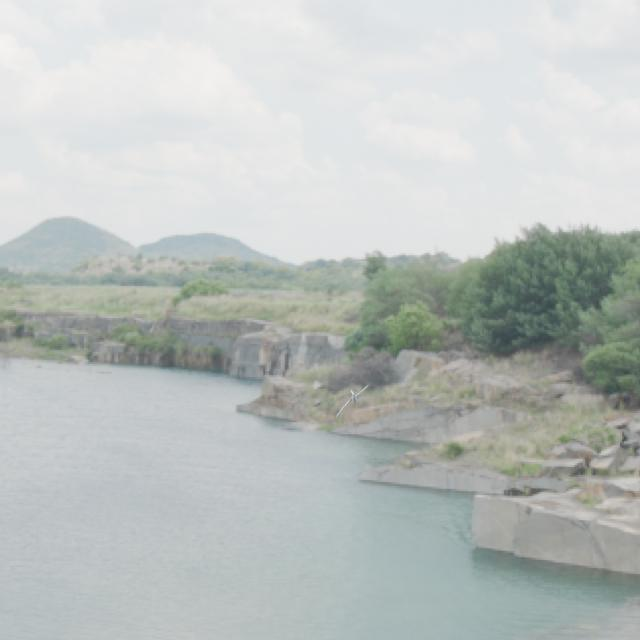Airaplan: (335, 385, 368, 419)
